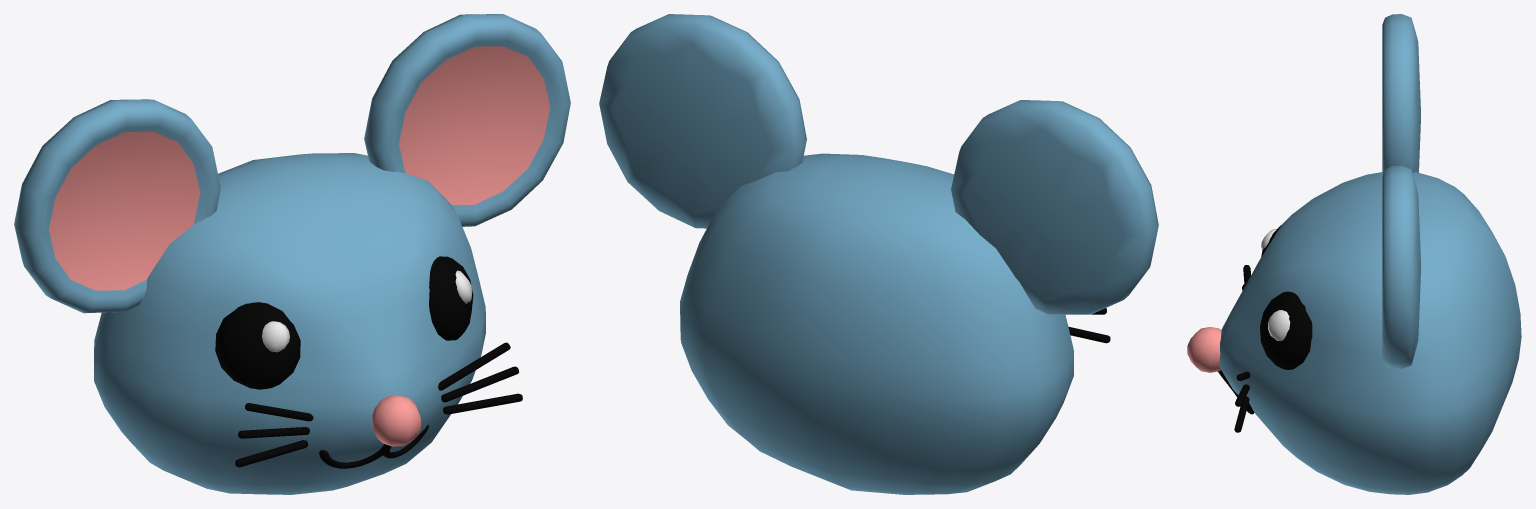
The model's file is mousehead.fbx.
The picture shows the model from 3 angles, left to right: view 1: azimuth 30°, elevation 25°; view 2: azimuth 150°, elevation 25°; view 3: azimuth 270°, elevation 25°; orthographic projection. The views are drawn at different scales.
Parts seen in each view (by area): view 1: mouse_head; view 2: mouse_head; view 3: mouse_head.
Part boxes in pixels (x1,y1,x2,y2): mouse_head: (14, 14, 570, 494); mouse_head: (599, 14, 1158, 494); mouse_head: (1187, 14, 1521, 494).
Size of the model in its own units: 90.04 by 65.41 by 53.48.
